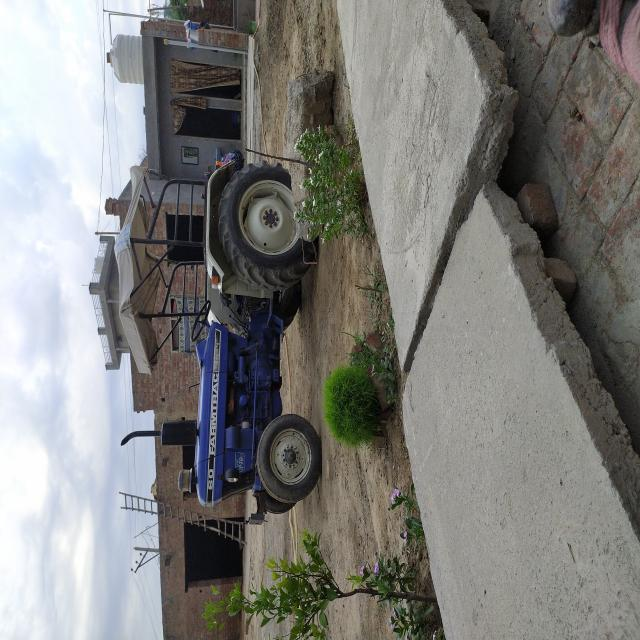Tractor: (73, 112, 372, 430)
